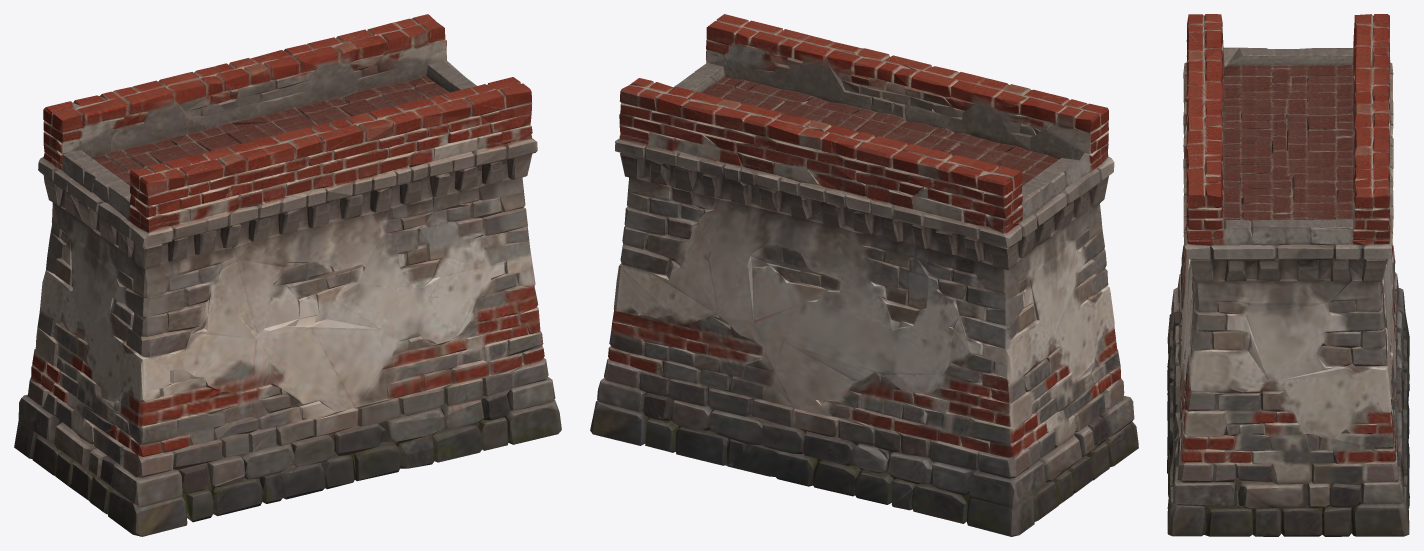
File: wallseg.glb
3 renders of one model, left to right at view 1: azimuth 30°, elevation 25°; view 2: azimuth 150°, elevation 25°; view 3: azimuth 270°, elevation 25°, orthographic. The views are drawn at different scales.
Bounding box in the file's own units: 1.9 × 1.45 × 0.9595.
Materials: 1 (1 with a texture image).
